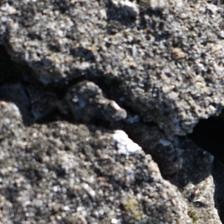Crack: (6, 14, 212, 180)
